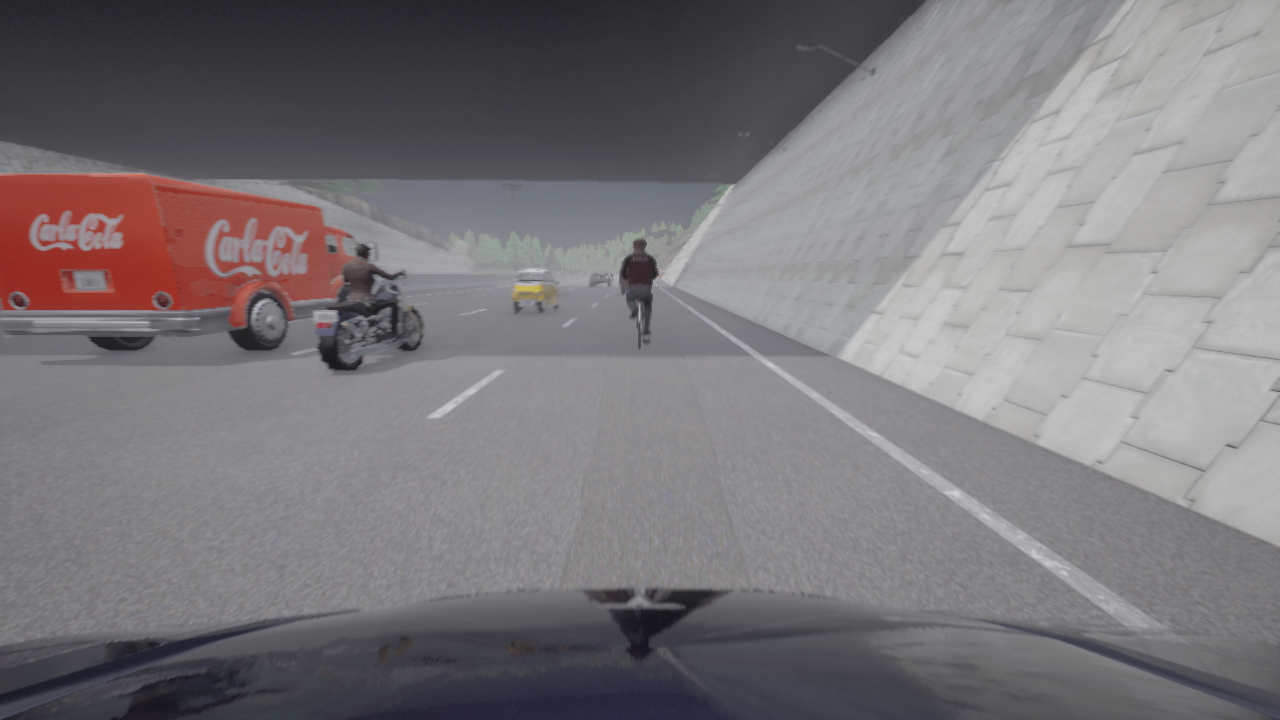cyclist: (0, 588, 1279, 719), (0, 173, 377, 350), (314, 269, 423, 371), (512, 268, 559, 313), (636, 299, 649, 348), (590, 270, 612, 286), (620, 262, 629, 293), (515, 272, 517, 278)
